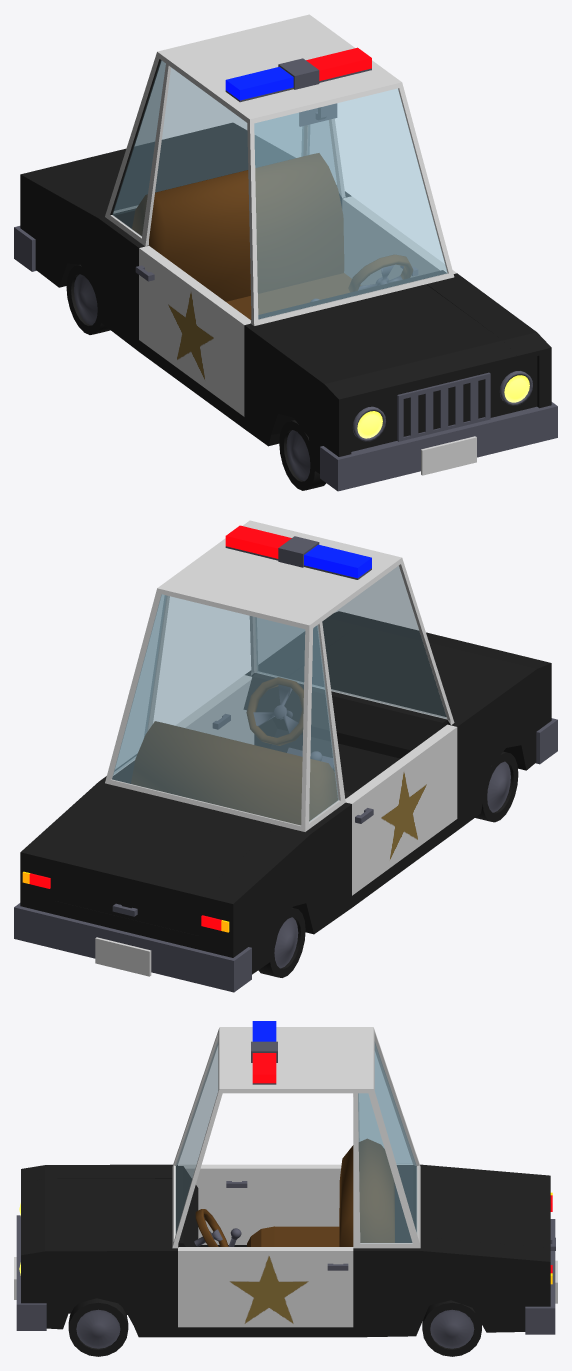
Rendered from police car 1.fbx.
3 renders of one model, top to bottom at view 1: azimuth 30°, elevation 25°; view 2: azimuth 150°, elevation 25°; view 3: azimuth 270°, elevation 25°, orthographic. The views are drawn at different scales.
Visible parts, largest first — view 1: chasse.002, hood.002, door_right.002, bumper_front.004, trunk.002, door_left.002, wheel_backleft.023, wheel_backleft.022, bumper_back.002; view 2: chasse.002, trunk.002, hood.002, door_right.002, bumper_back.002, door_left.002, wheel_backleft.023, wheel_backleft.022, bumper_front.004; view 3: chasse.002, door_left.002, door_right.002, hood.002, trunk.002, wheel_backleft.020, wheel_backleft.021, bumper_back.002, bumper_front.004.
Boxes of the visible parts, x1=… form: chasse.002: x1=20, y1=14, x2=551, y2=473; hood.002: x1=283, y1=284, x2=516, y2=390; door_right.002: x1=135, y1=246, x2=250, y2=416; bumper_front.004: x1=320, y1=402, x2=557, y2=491; trunk.002: x1=55, y1=131, x2=261, y2=206; door_left.002: x1=342, y1=196, x2=456, y2=285; wheel_backleft.023: x1=279, y1=420, x2=326, y2=490; wheel_backleft.022: x1=66, y1=264, x2=110, y2=334; bumper_back.002: x1=14, y1=226, x2=36, y2=271; chasse.002: x1=20, y1=520, x2=551, y2=974; trunk.002: x1=54, y1=794, x2=272, y2=935; hood.002: x1=287, y1=619, x2=516, y2=712; door_right.002: x1=345, y1=724, x2=457, y2=895; bumper_back.002: x1=14, y1=903, x2=251, y2=992; door_left.002: x1=175, y1=675, x2=254, y2=744; wheel_backleft.023: x1=475, y1=751, x2=518, y2=822; wheel_backleft.022: x1=258, y1=908, x2=305, y2=977; bumper_front.004: x1=535, y1=718, x2=557, y2=764; chasse.002: x1=19, y1=1021, x2=552, y2=1337; door_left.002: x1=178, y1=1247, x2=353, y2=1327; door_right.002: x1=178, y1=1164, x2=341, y2=1244; hood.002: x1=21, y1=1179, x2=172, y2=1241; trunk.002: x1=427, y1=1179, x2=555, y2=1250; wheel_backleft.020: x1=68, y1=1298, x2=128, y2=1356; wheel_backleft.021: x1=422, y1=1300, x2=481, y2=1356; bumper_back.002: x1=525, y1=1219, x2=557, y2=1334; bumper_front.004: x1=14, y1=1215, x2=46, y2=1330.
Bounding box in the file's own units: 225 × 308 × 566.
